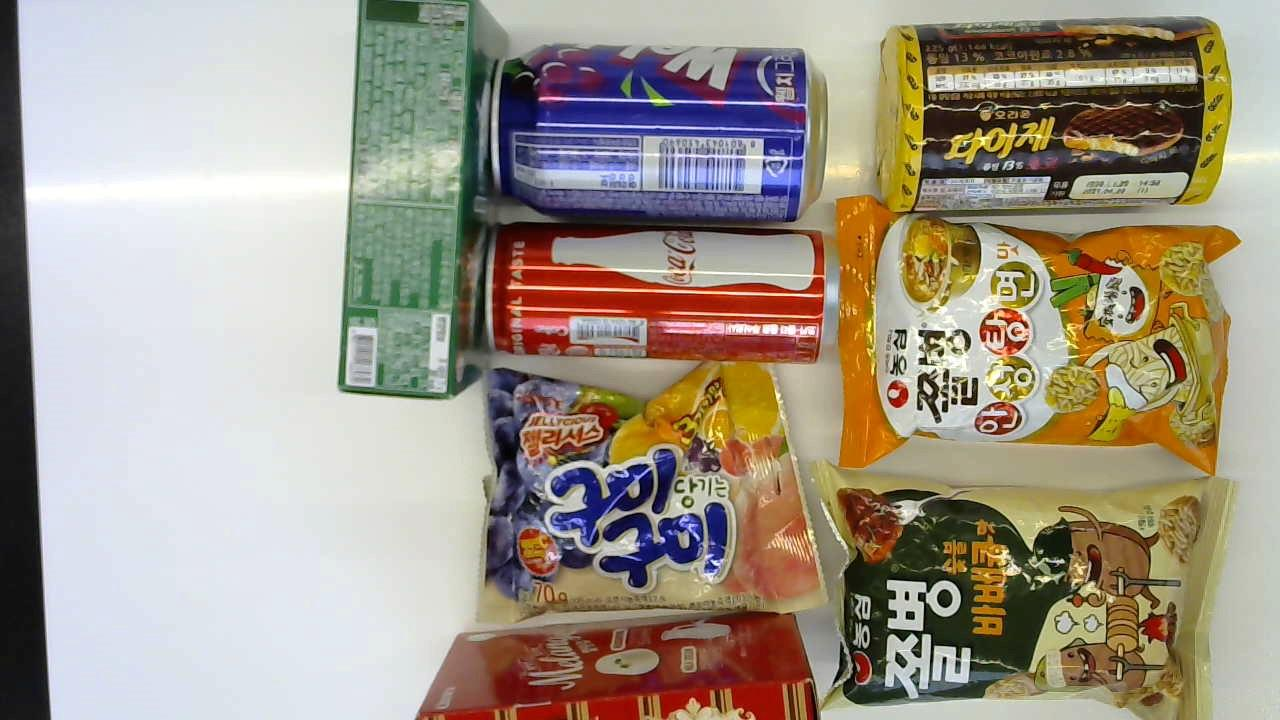coke: (470, 217, 833, 345)
couque_coffee: (332, 0, 518, 409)
diget_choco: (861, 9, 1236, 219)
gumi_gumi: (454, 351, 828, 638)
jjolbyung_noodle: (809, 184, 1241, 490)
jjolbyung_ori: (813, 462, 1221, 718), (412, 621, 836, 720)
welchs: (471, 38, 829, 227)
